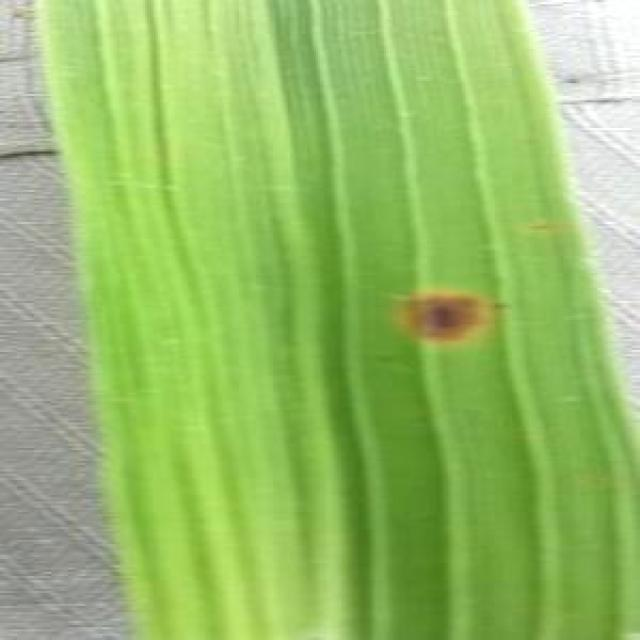Rice_Brownspot: (376, 269, 498, 367), (518, 213, 557, 237), (486, 288, 512, 314)
